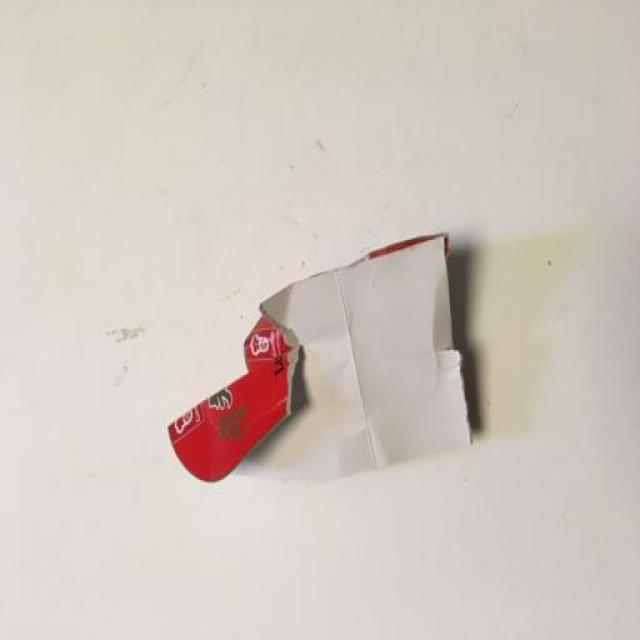paper: (156, 216, 490, 554)
